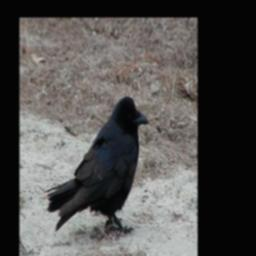Crow: (45, 94, 148, 235)
